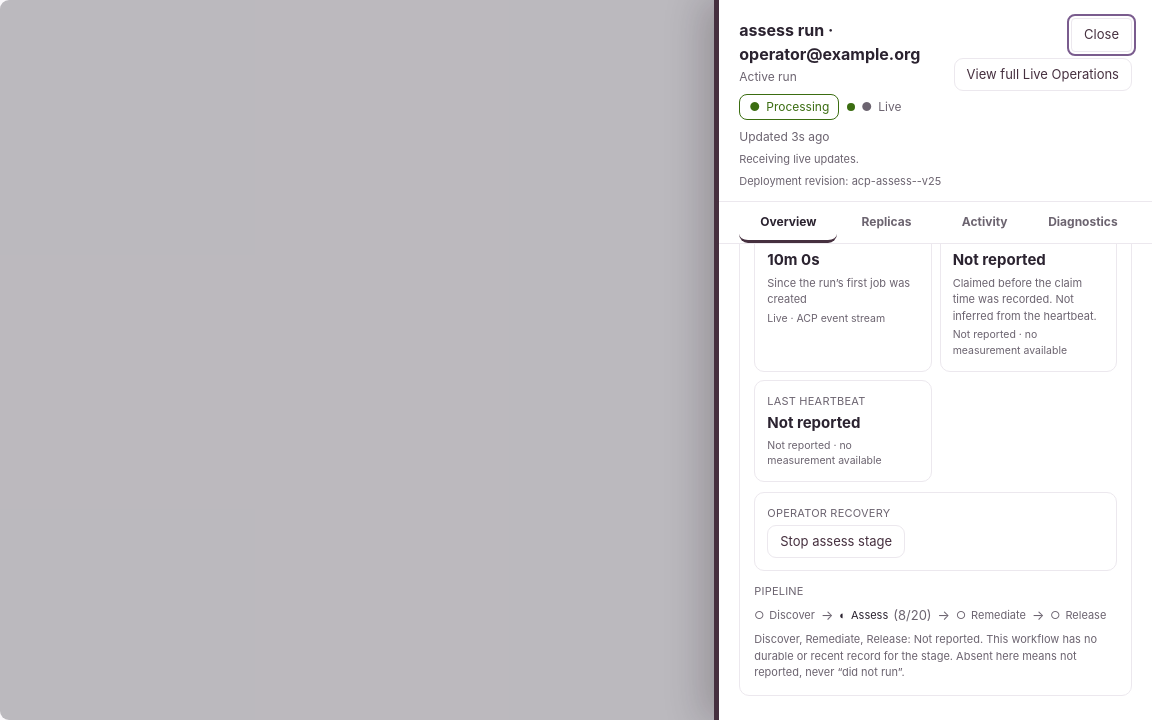
Test: Primary visualization per node › requires an explicit second click before cancelling only the selected stage
(page scrolled)
Step 1. Click the button "Stop assess stage" → (836, 541), box [767,524,905,558]
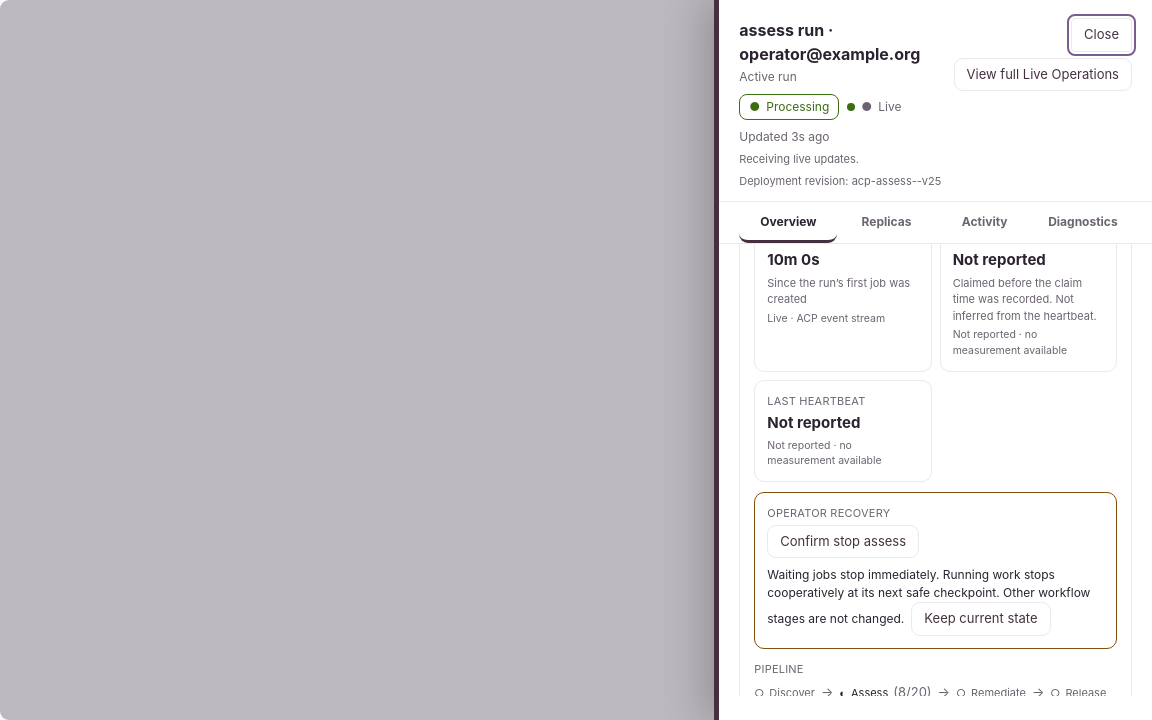
expect the text "Other workflow stages are not changed" is shown: met, box [767,567,1090,626]
Step 2. Click the button "Confirm stop assess" → (843, 541), box [767,524,919,558]
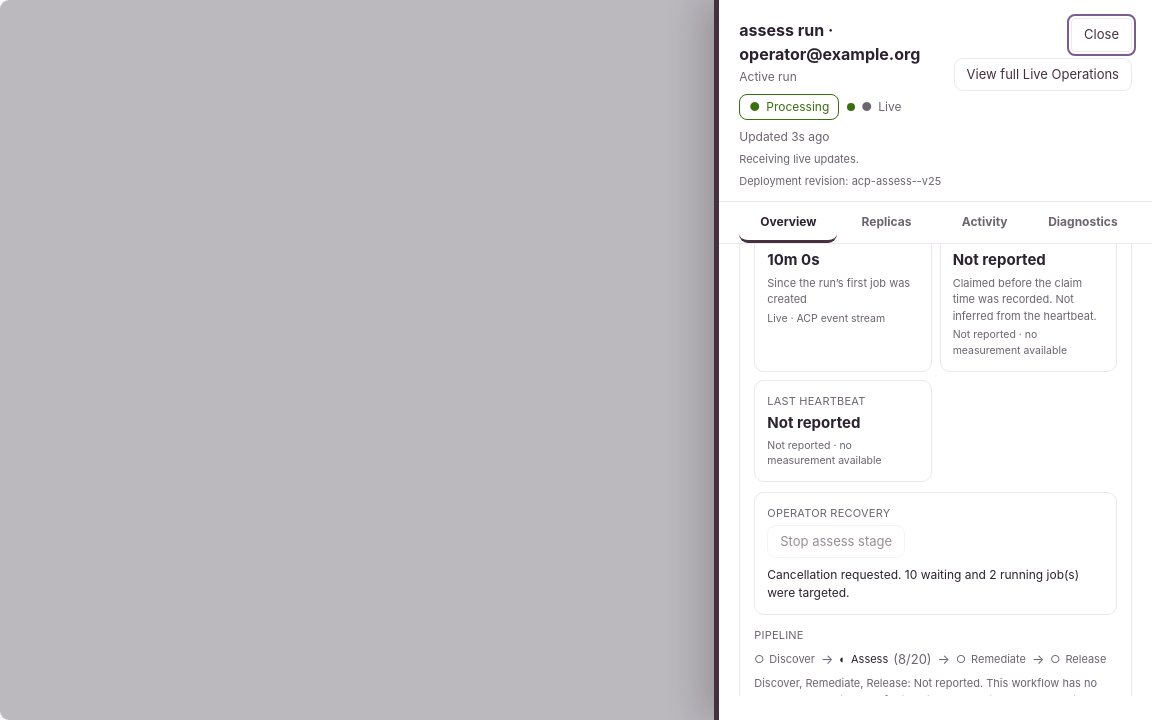
expect the text "10 waiting and 2 running job(s) were targeted" is shown: met, box [767,567,1079,600]
expect the button "Stop assess stage" is disabled: met, box [767,524,905,558]
